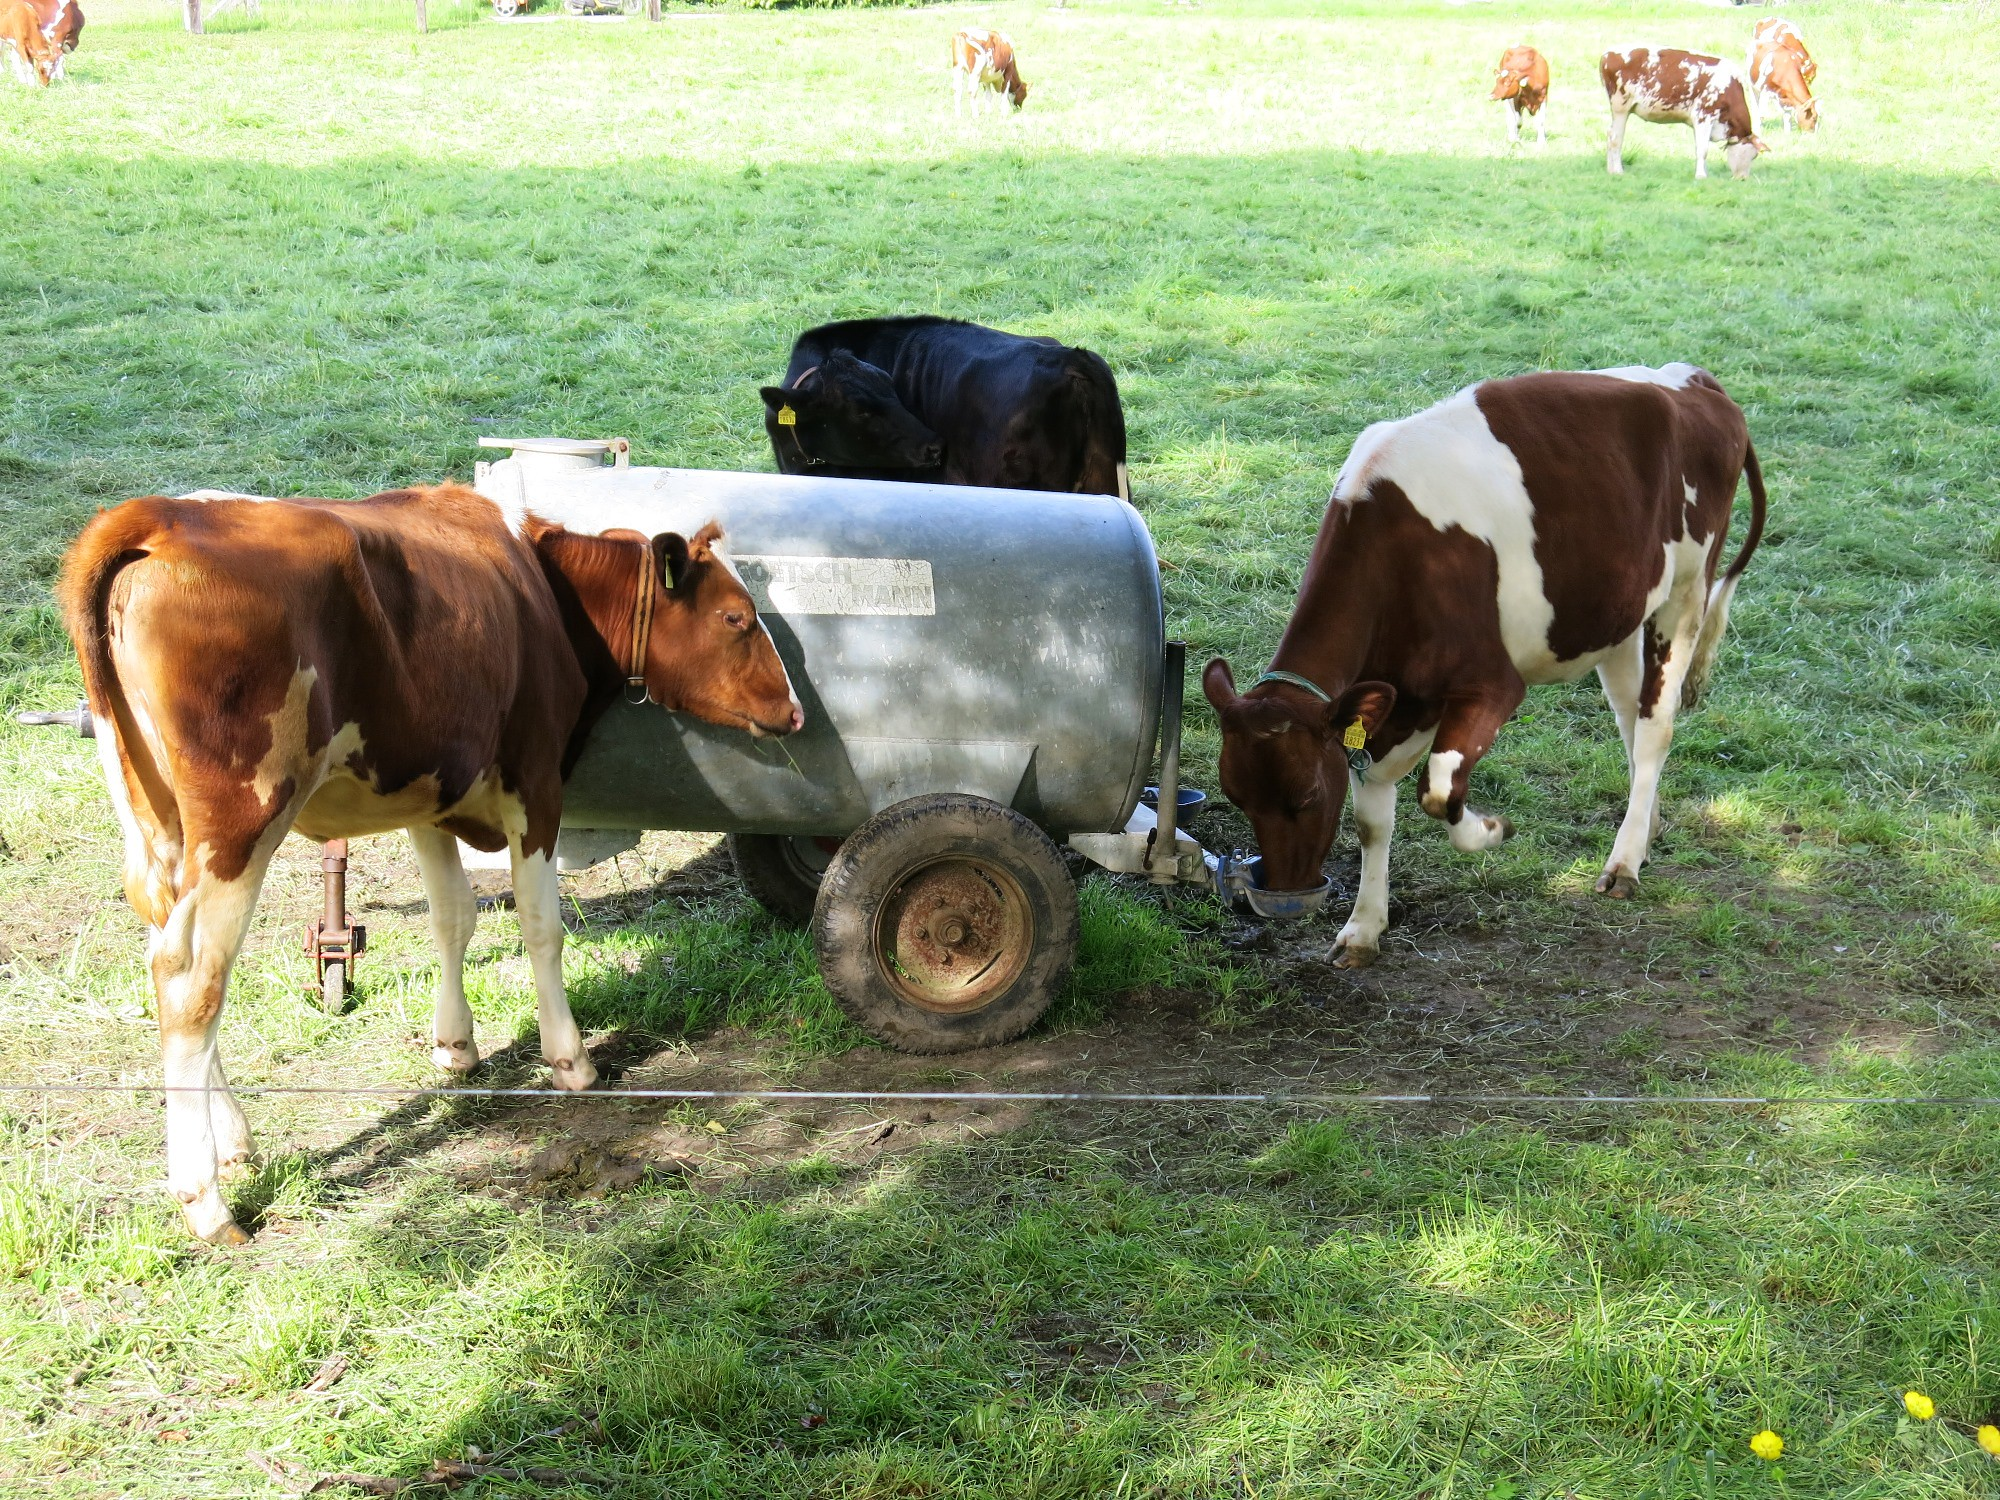cow: (58, 473, 798, 1197), (1213, 389, 1773, 985), (754, 312, 1154, 536), (1605, 43, 1773, 197), (1482, 50, 1557, 150)
